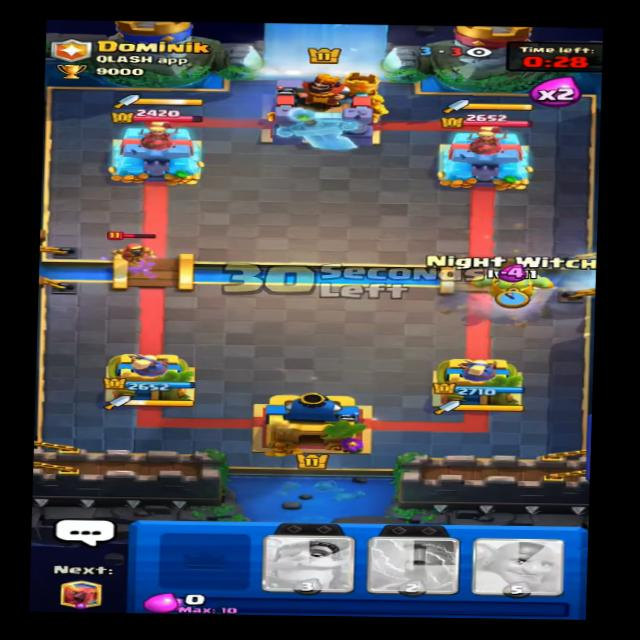wizard: (100, 231, 158, 267)
